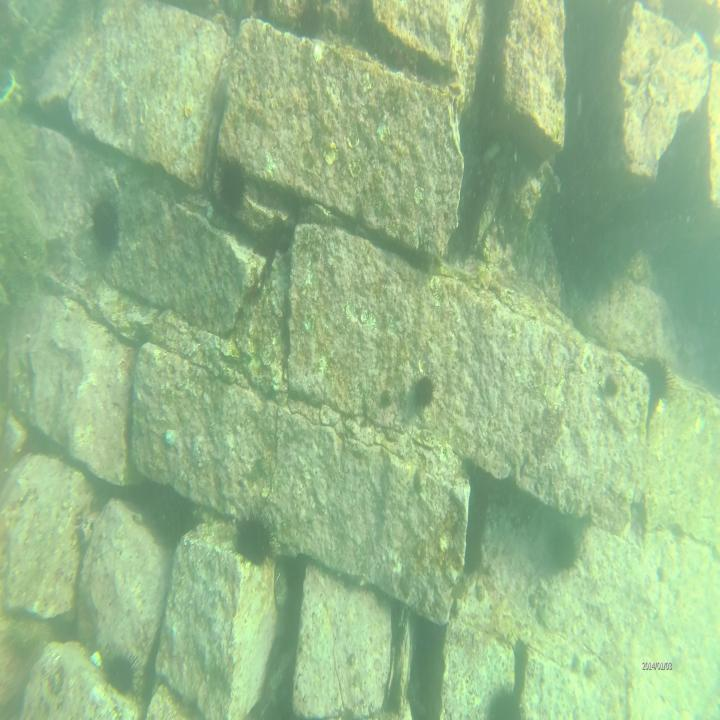echinus: (215, 147, 252, 219), (237, 512, 277, 574), (638, 351, 678, 408), (90, 194, 124, 258), (102, 648, 145, 698), (552, 528, 584, 576), (486, 683, 526, 720), (298, 0, 325, 41), (414, 368, 438, 408)
